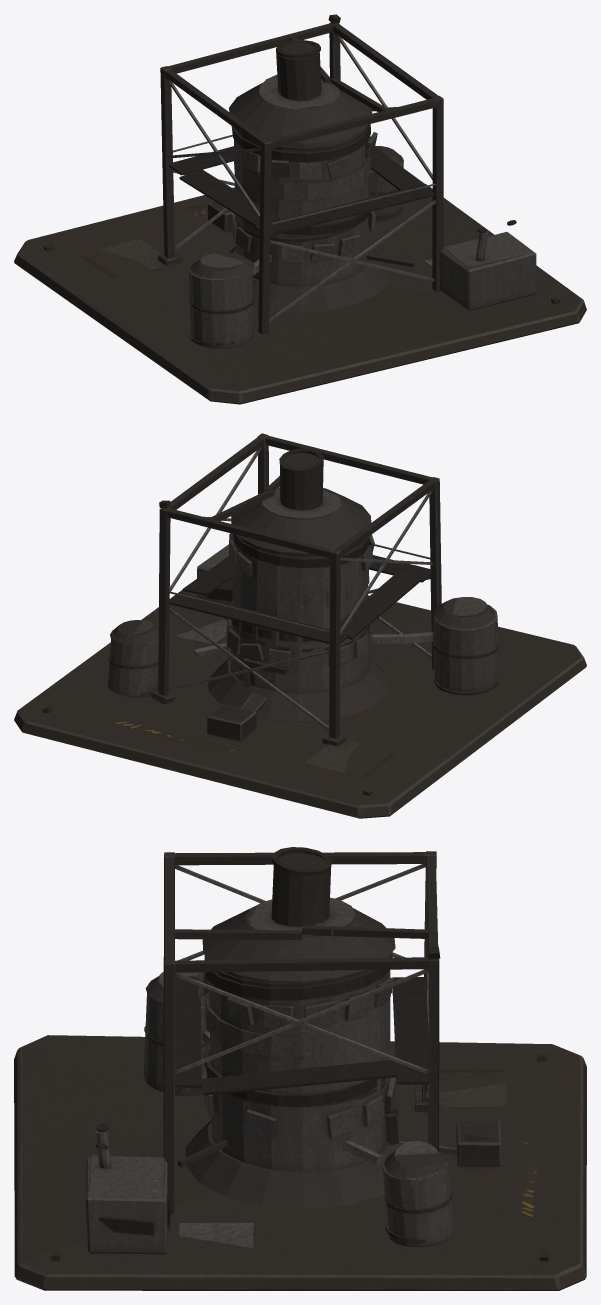
Rendered from chs_fusion_wreck.fbx.
The picture shows the model from 3 angles, top to bottom: view 1: azimuth 30°, elevation 25°; view 2: azimuth 150°, elevation 25°; view 3: azimuth 270°, elevation 25°; orthographic projection. The views are drawn at different scales.
Visible parts, largest first — view 1: base_bar, core_bar; view 2: base_bar, core_bar; view 3: base_bar, core_bar.
Boxes of the visible parts, bbox=[...] form: base_bar: bbox=[14, 14, 586, 404]; core_bar: bbox=[231, 124, 371, 235]; base_bar: bbox=[14, 433, 586, 818]; core_bar: bbox=[230, 534, 369, 687]; base_bar: bbox=[14, 847, 586, 1290]; core_bar: bbox=[203, 953, 398, 1145].
Bounding box in the file's own units: 3157 × 2115 × 3158.
Materials: 2 (2 with a texture image).
